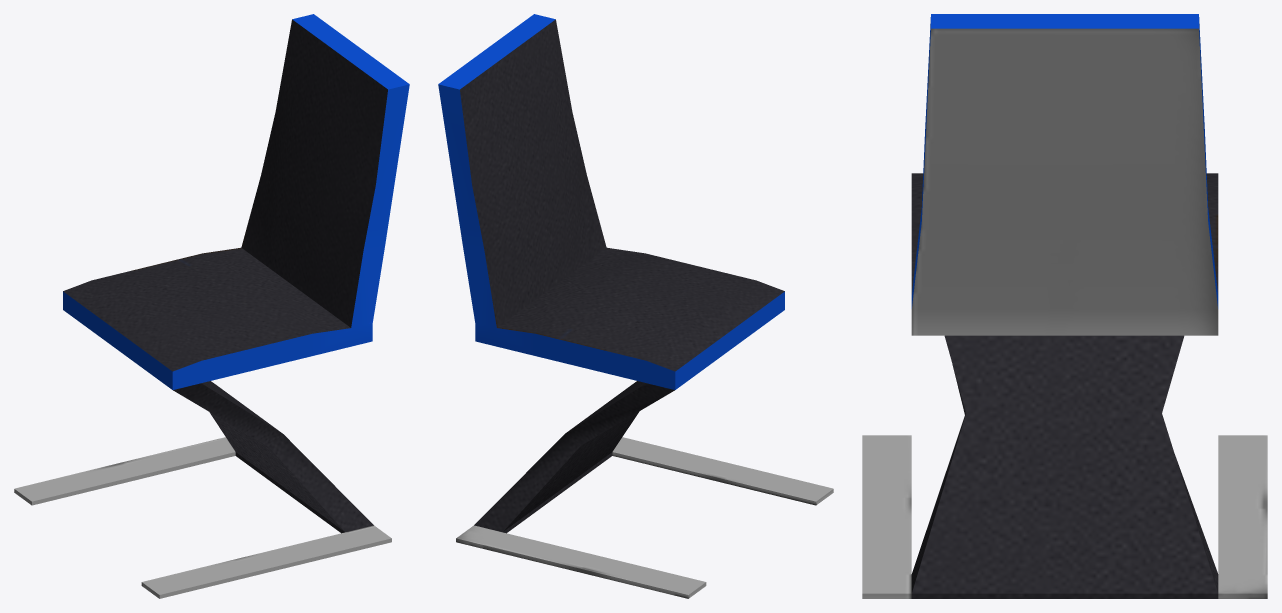
The model's file is Chair_asset.fbx.
3 renders of one model, left to right at view 1: azimuth 30°, elevation 25°; view 2: azimuth 150°, elevation 25°; view 3: azimuth 270°, elevation 25°, orthographic. The views are drawn at different scales.
Visible parts, largest first — view 1: pCube1; view 2: pCube1; view 3: pCube1.
Part boxes in pixels (bbox=[...]): pCube1: bbox=[14, 14, 409, 598]; pCube1: bbox=[438, 14, 833, 598]; pCube1: bbox=[862, 14, 1267, 598].
Bounding box in the file's own units: 2.43 × 3.62 × 2.22.
